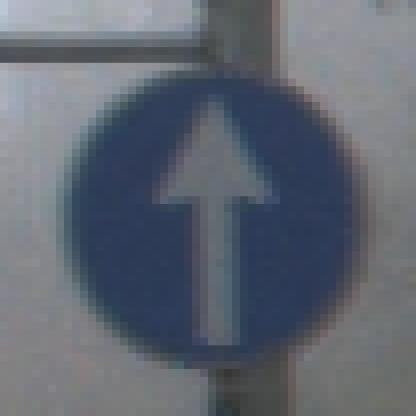AheadOnly: (41, 40, 377, 378)
